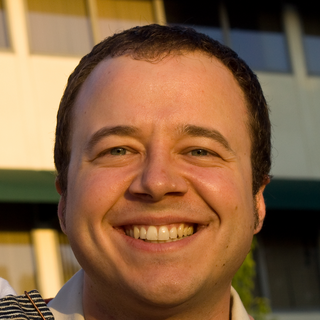eye: (172, 138, 230, 169), (85, 140, 144, 167)
